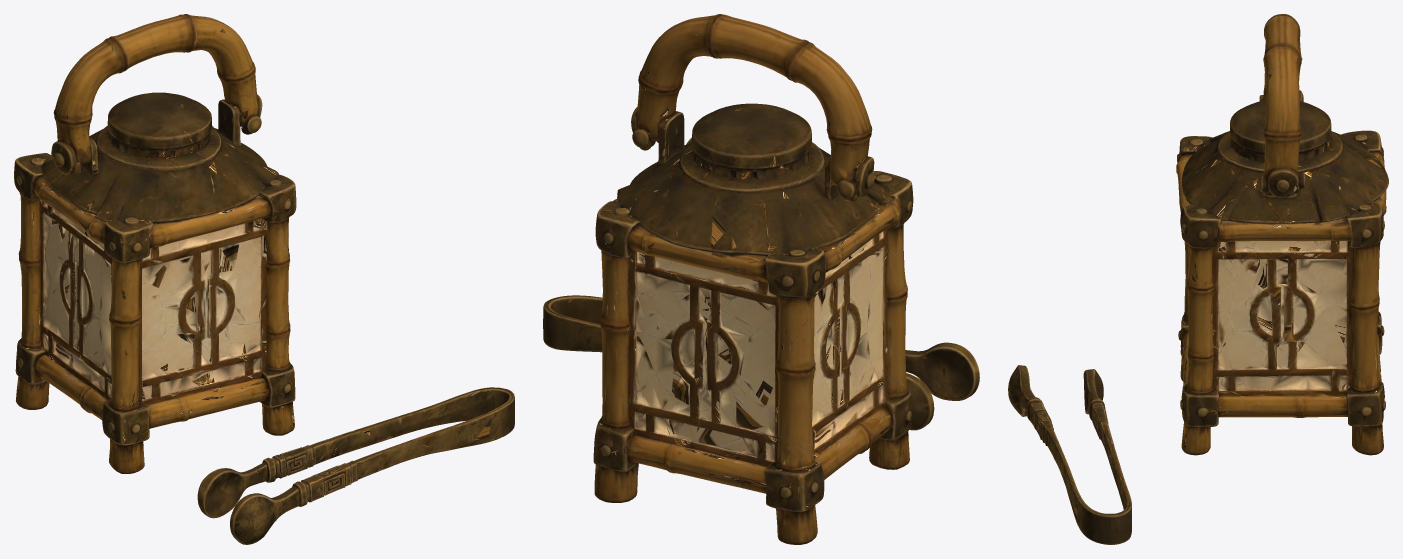
Rendered from debugger.glb.
3 views of the same model, side by side, from view 1: azimuth 30°, elevation 25°; view 2: azimuth 150°, elevation 25°; view 3: azimuth 270°, elevation 25° (orthographic). The views are drawn at different scales.
Bounding box in the file's own units: 1.78 × 1.9 × 1.63.
Materials: 1 (1 with a texture image).
